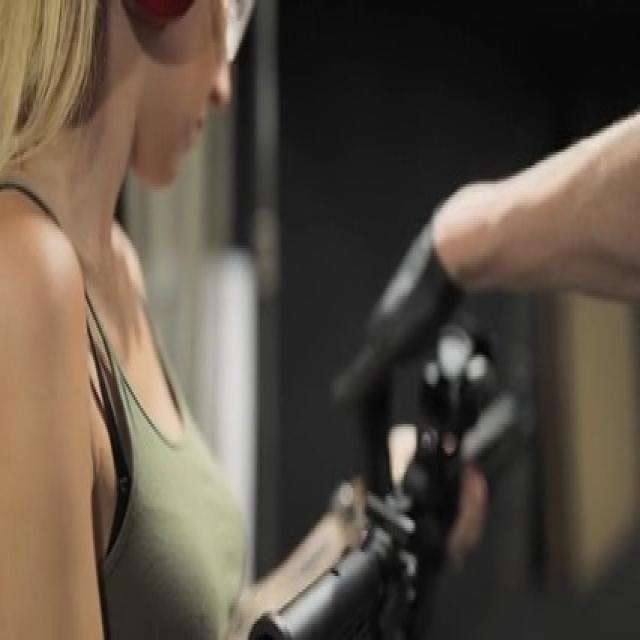Gun_Holder: (215, 322, 598, 640)
Person: (0, 0, 319, 638)
